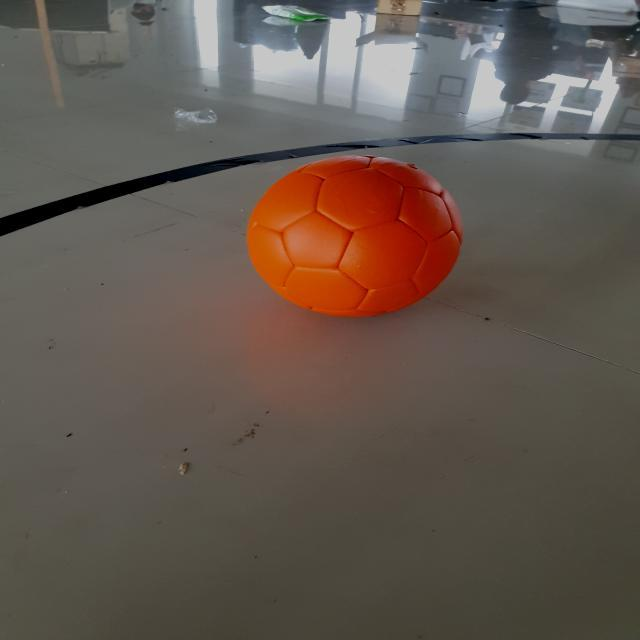bola: (229, 146, 478, 324)
